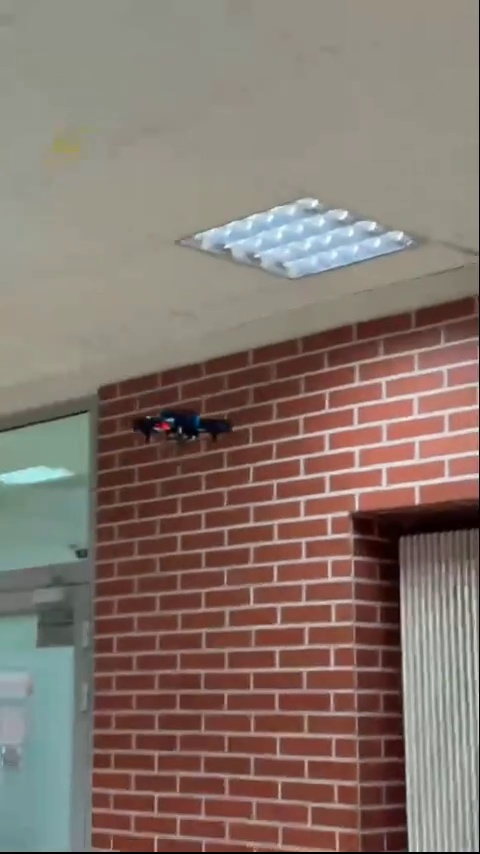drone: (135, 408, 239, 455)
